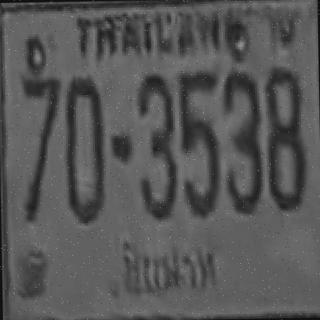N00: (179, 118, 218, 214)
N03: (222, 72, 261, 212), (222, 90, 261, 212)
N05: (137, 100, 177, 217), (177, 70, 218, 150)
N07: (22, 76, 61, 156)
N08: (262, 65, 304, 205)
P08: (111, 237, 224, 296)
